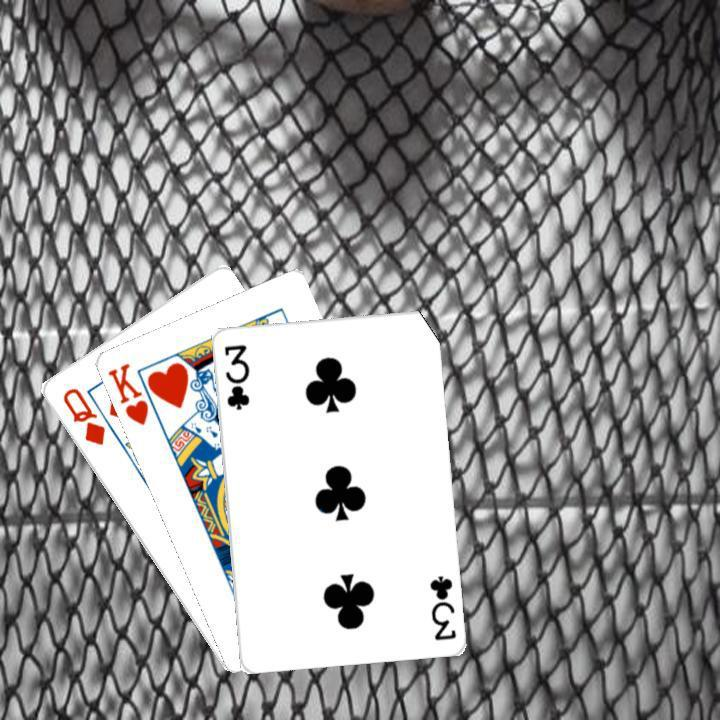3: (425, 570, 458, 642), (219, 339, 251, 411)
K: (102, 358, 150, 427)
Q: (57, 383, 107, 448)
